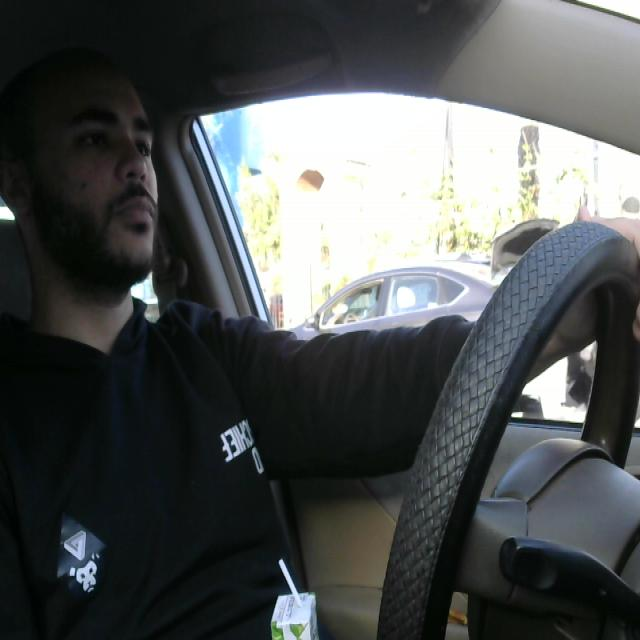drinking: (265, 556, 325, 640)
